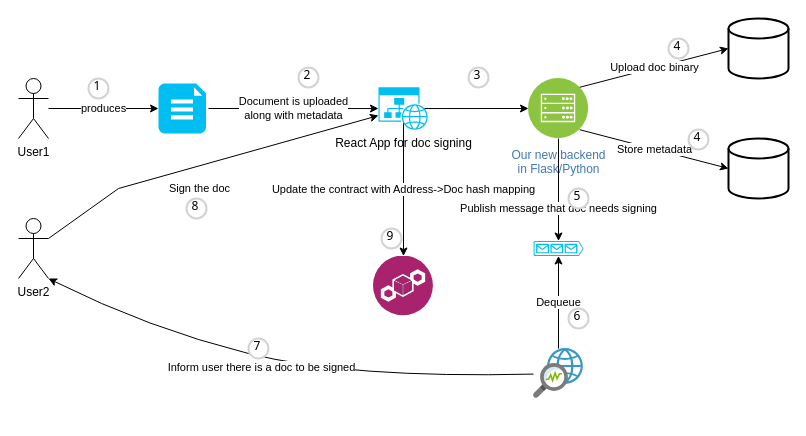
Image size: 806x436. Some labels were removed from this diagram. Here are the shapes that lost their labels. From the top down, the centre of each, then its label:
(x=758, y=48): IPFS
(x=182, y=108): Document to be signed
(x=758, y=168): Key/Value Database (i.e. Dynamo)
(x=558, y=248): Queue (i.e. celery)
(x=403, y=286): Blockchain
(x=558, y=373): Notification sender
